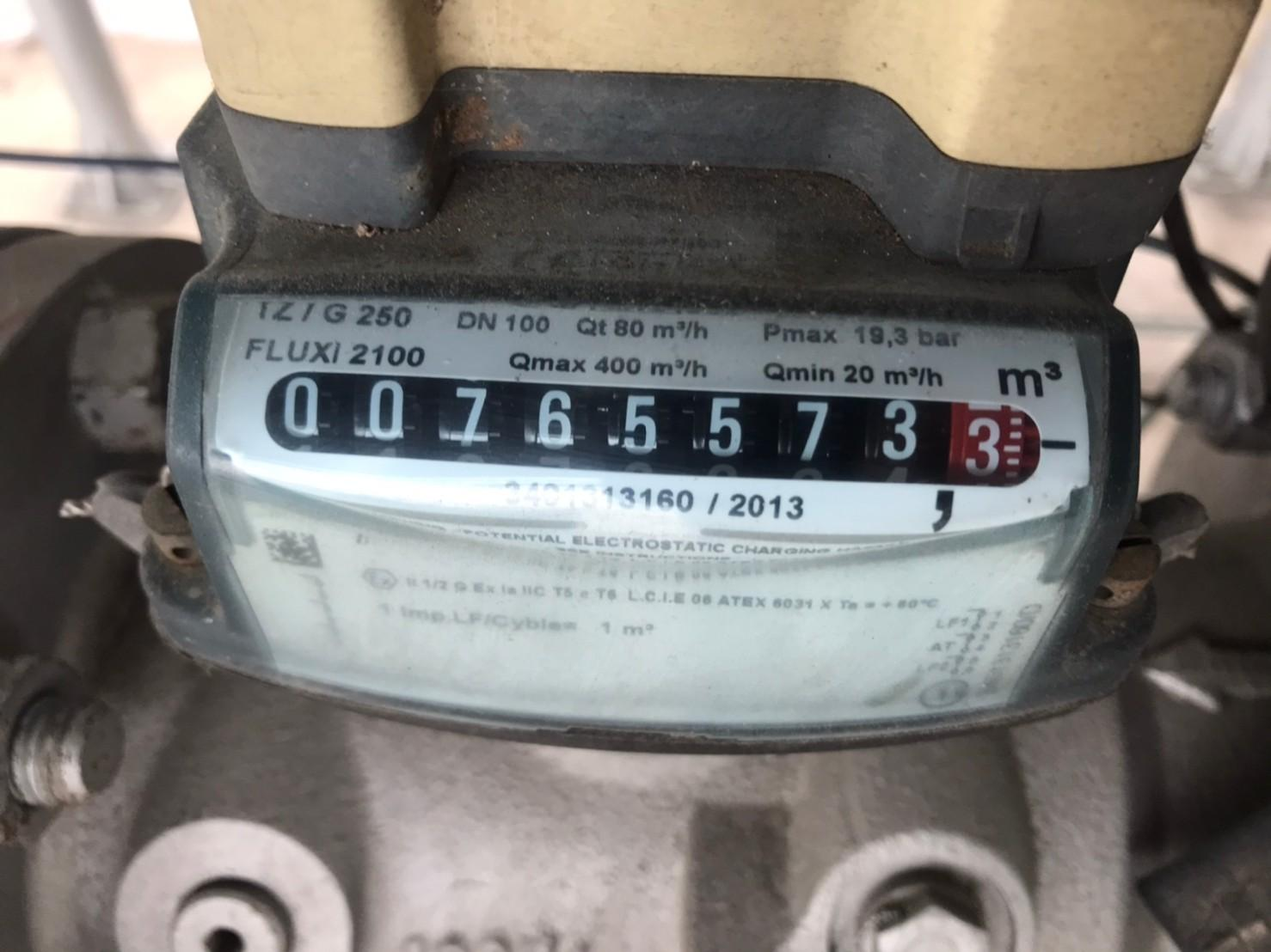analog_dial: (256, 351, 1081, 510)
